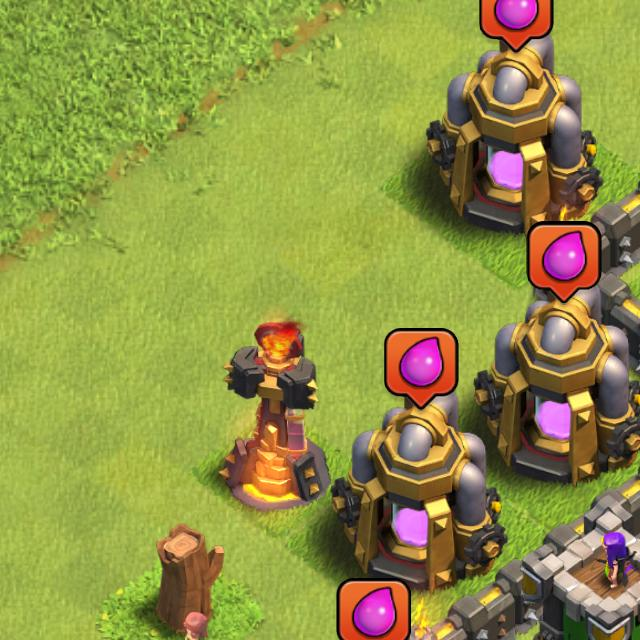FullElixir: (382, 327, 460, 411), (526, 220, 602, 306), (336, 579, 414, 640), (478, 0, 555, 54)
